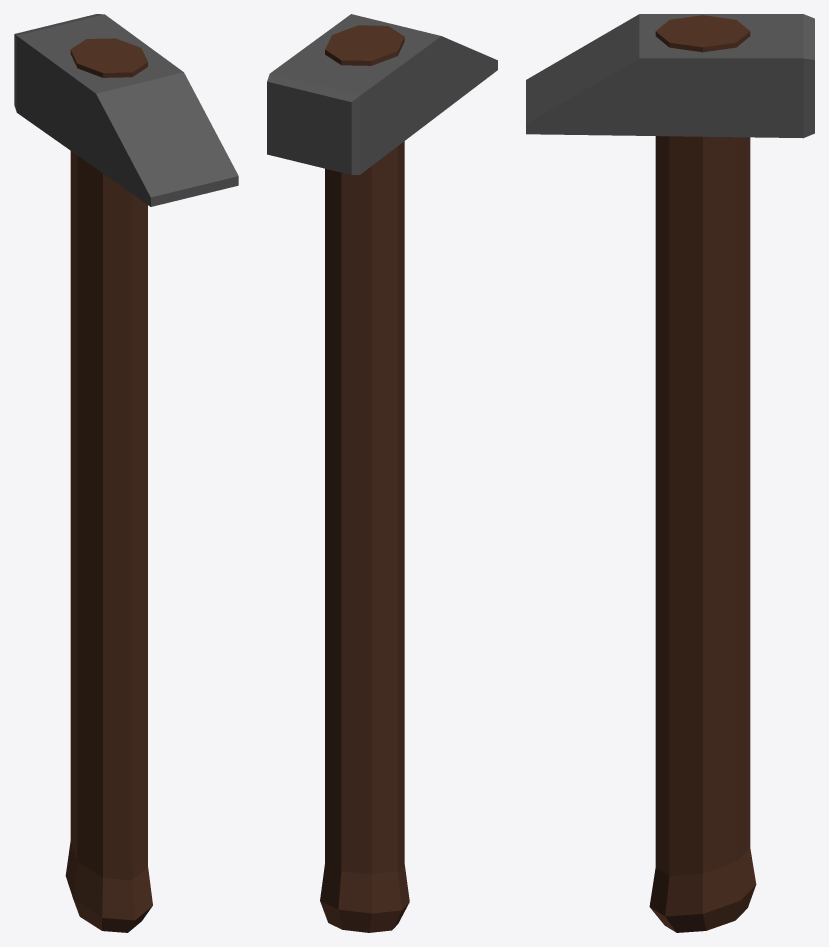
File: Hammer_vc.fbx
3 renders of one model, left to right at view 1: azimuth 30°, elevation 25°; view 2: azimuth 150°, elevation 25°; view 3: azimuth 270°, elevation 25°, orthographic. The views are drawn at different scales.
Visible parts, largest first — view 1: Hammer_vc; view 2: Hammer_vc; view 3: Hammer_vc.
Boxes of the visible parts, <box> form: Hammer_vc: <box>14,14,238,932</box>; Hammer_vc: <box>267,14,497,932</box>; Hammer_vc: <box>526,14,814,932</box>.
Bounding box in the file's own units: 4.06 × 38.15 × 11.17.
